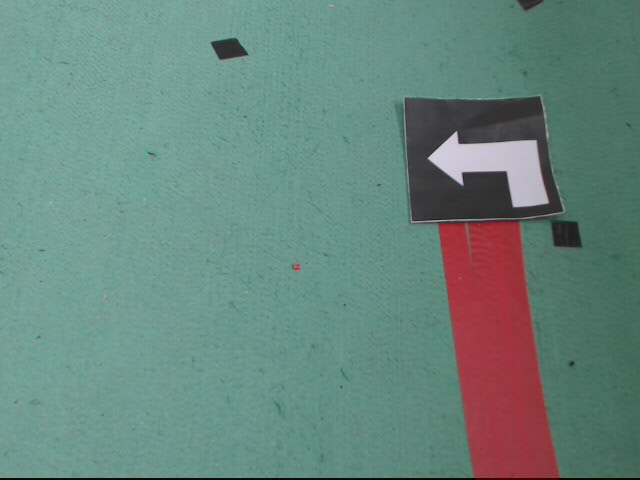left: (401, 94, 564, 226)
